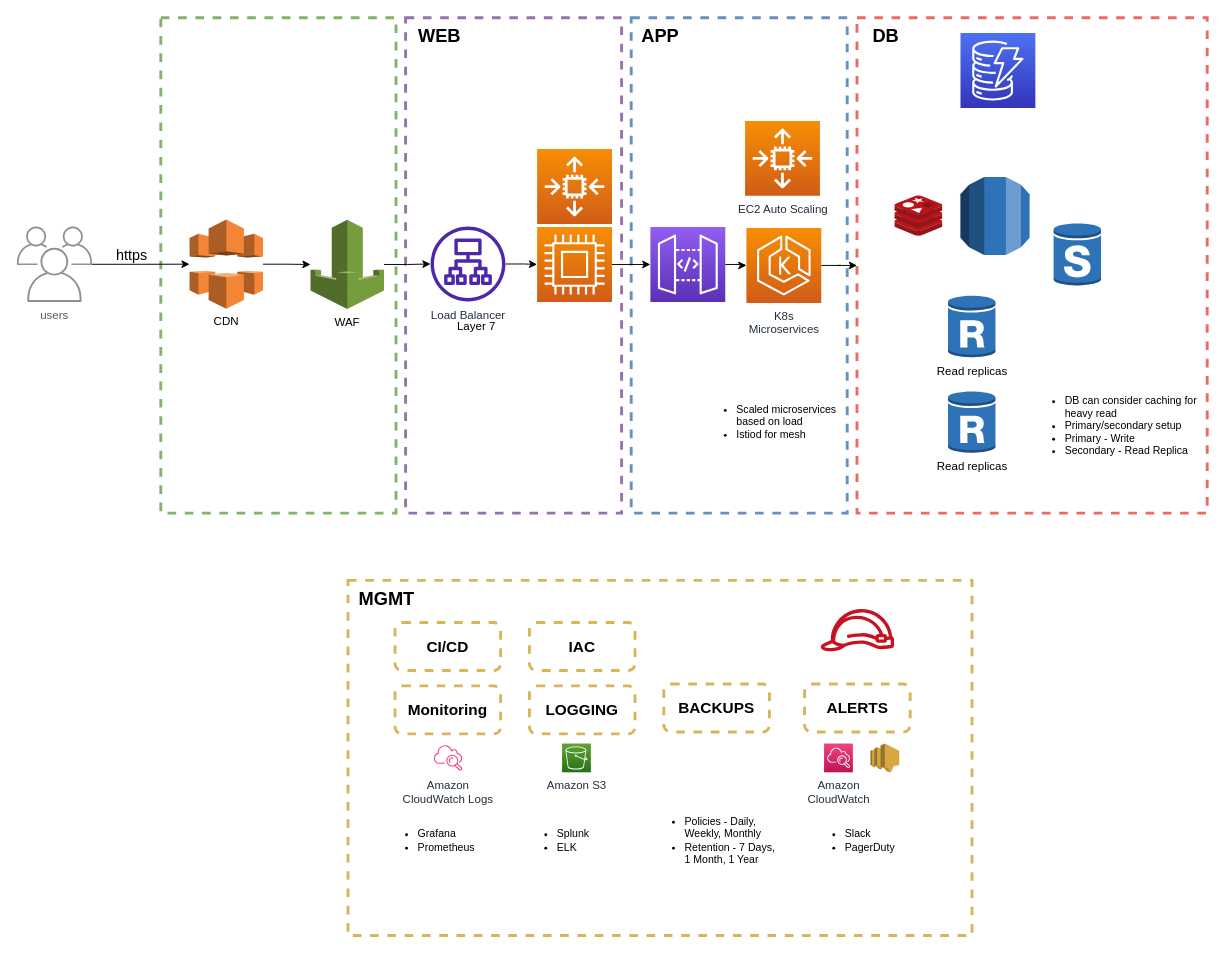
The diagram is 1225 pixels wide and 953 high, and some of its shapes have lost their labels. Each missing label, with the centre of its shape:
Amazon API Gateway: the point at 687,264
Amazon DynamoDB: the point at 997,70
AWS RDS: the point at 995,215
Frontend: the point at 574,264
IAM Roles: the point at 856,630
Redis: the point at 918,215
SNS: the point at 884,757
Standby RDS (Multi AZ): the point at 1077,254
